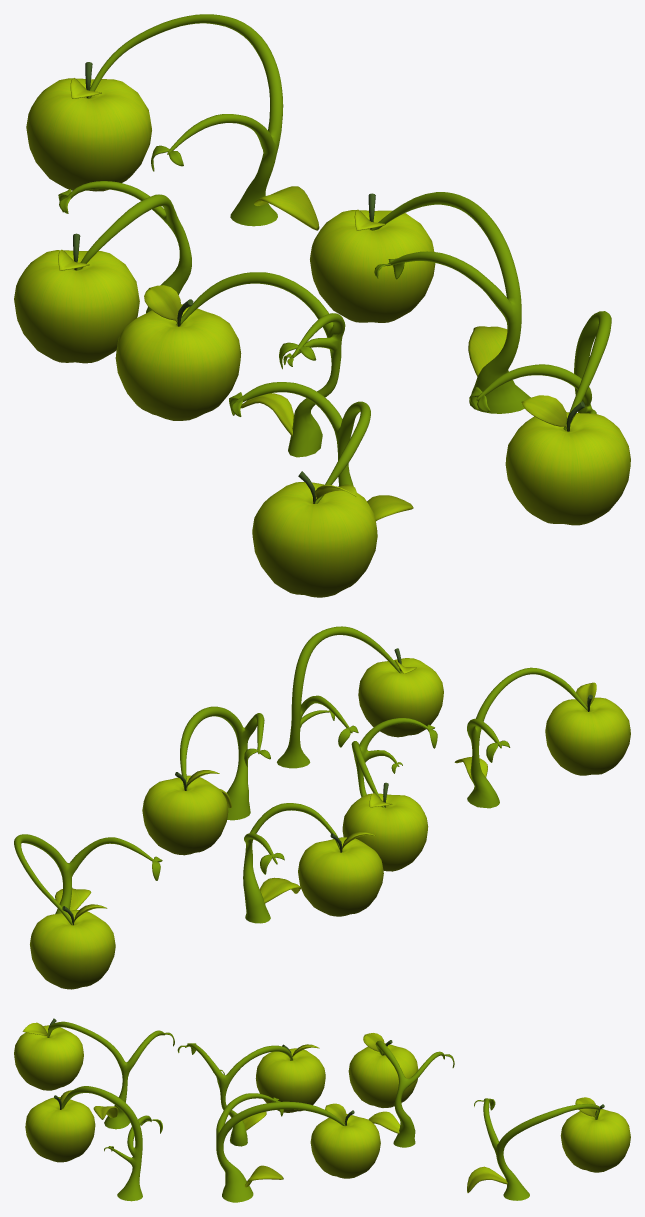
The model's file is plants_x6.fbx.
The picture shows the model from 3 angles, top to bottom: view 1: azimuth 30°, elevation 25°; view 2: azimuth 150°, elevation 25°; view 3: azimuth 270°, elevation 25°; orthographic projection. The views are drawn at different scales.
Visible parts, largest first — view 1: Apple.5, Apple.3, Apple.4, Apple.6, Apple.1, Apple.2, Plants.2, Plants.1, Plants.5, Plants.4, Plants.3, Plants.6; view 2: Apple.4, Apple.6, Apple.2, Apple.1, Apple.3, Apple.5, Plants.3, Plants.2, Plants.6, Plants.4, Plants.1, Plants.5; view 3: Apple.2, Apple.1, Apple.4, Apple.3, Apple.5, Apple.6, Plants.2, Plants.1, Plants.3, Plants.6, Plants.4, Plants.5.
Boxes of the visible parts, x1,y1,x2,y2 form: Apple.5: (115,285,241,420); Apple.3: (505,395,630,525); Apple.4: (252,471,377,597); Apple.6: (14,233,139,363); Apple.1: (26,62,151,191); Apple.2: (310,193,435,322); Plants.2: (371,192,530,413); Plants.1: (87,14,319,230); Plants.5: (176,272,345,457); Plants.4: (229,382,413,520); Plants.3: (469,311,611,431); Plants.6: (58,181,191,313); Apple.4: (545,682,630,775); Apple.6: (298,831,383,916); Apple.2: (142,770,228,855); Apple.1: (30,904,115,989); Apple.3: (358,658,443,737); Apple.5: (342,782,428,871); Plants.3: (277,626,401,768); Plants.2: (180,706,270,820); Plants.6: (243,803,342,923); Plants.4: (454,667,587,808); Plants.1: (14,834,162,925); Plants.5: (351,718,437,807); Apple.2: (310,1103,380,1178); Apple.1: (560,1097,630,1172); Apple.4: (14,1018,83,1090); Apple.3: (25,1090,95,1162); Apple.5: (255,1044,325,1112); Apple.6: (348,1033,418,1107); Plants.2: (216,1093,345,1202); Plants.1: (467,1098,600,1200); Plants.3: (54,1086,162,1201); Plants.6: (368,1040,454,1147); Plants.4: (47,1021,174,1129); Plants.5: (177,1043,292,1146).
Size of the model in its own units: 339 by 132 by 730.
